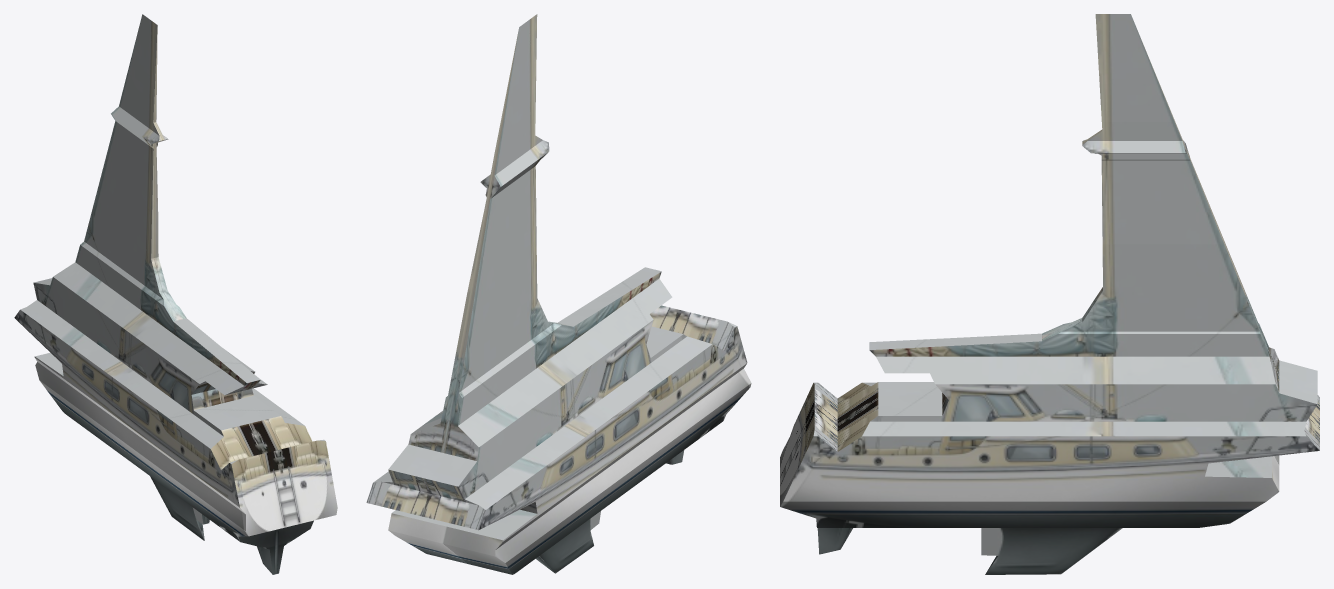
Rendered from sailboat.glb.
3 views of the same model, side by side, from view 1: azimuth 30°, elevation 25°; view 2: azimuth 150°, elevation 25°; view 3: azimuth 270°, elevation 25° (orthographic). The views are drawn at different scales.
Parts seen in each view (by area): view 1: sailboat; view 2: sailboat; view 3: sailboat.
Boxes of the visible parts, left/top/right/bottom form: sailboat: left=14, top=14, right=337, bottom=574; sailboat: left=366, top=14, right=751, bottom=574; sailboat: left=780, top=14, right=1319, bottom=574.
Bounding box in the file's own units: 2.12 × 10.31 × 8.99.
Materials: 2 (1 with a texture image).
